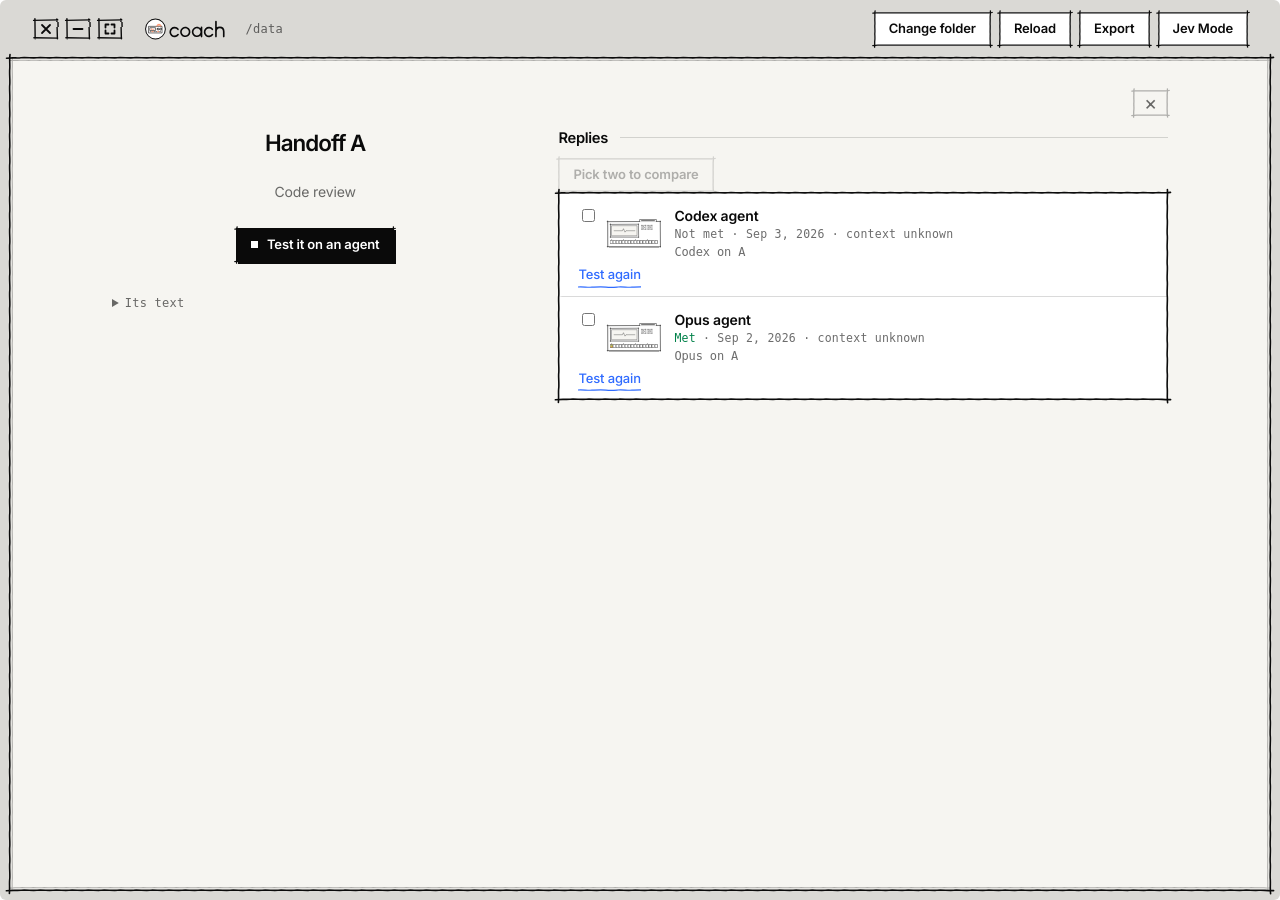
Test: HandoffDetail › its main action starts a test with this handoff picked
Click the button "Test it on an agent" at (315, 245), box [236,228,394,262]
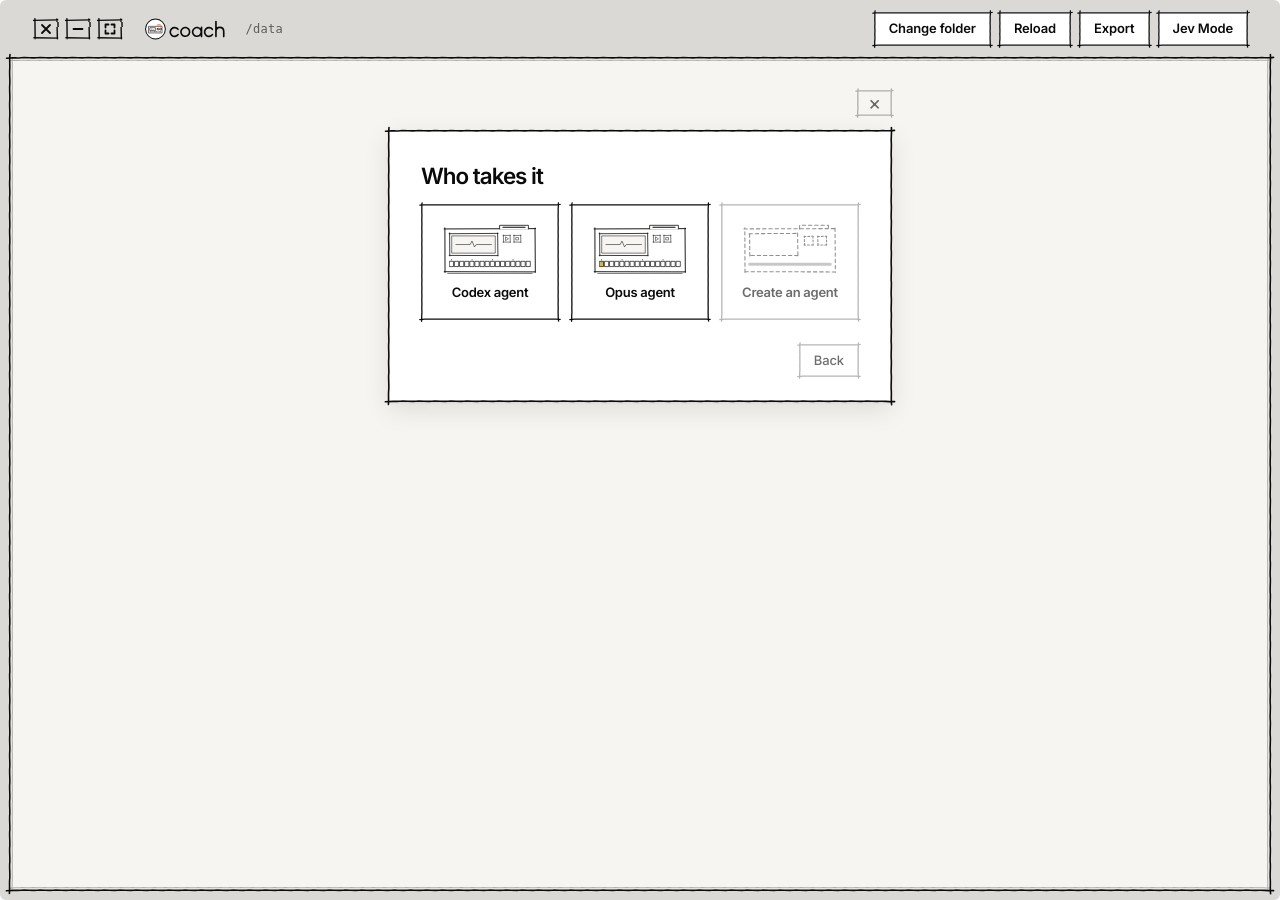
Expected: the heading "Handoff A" is gone
